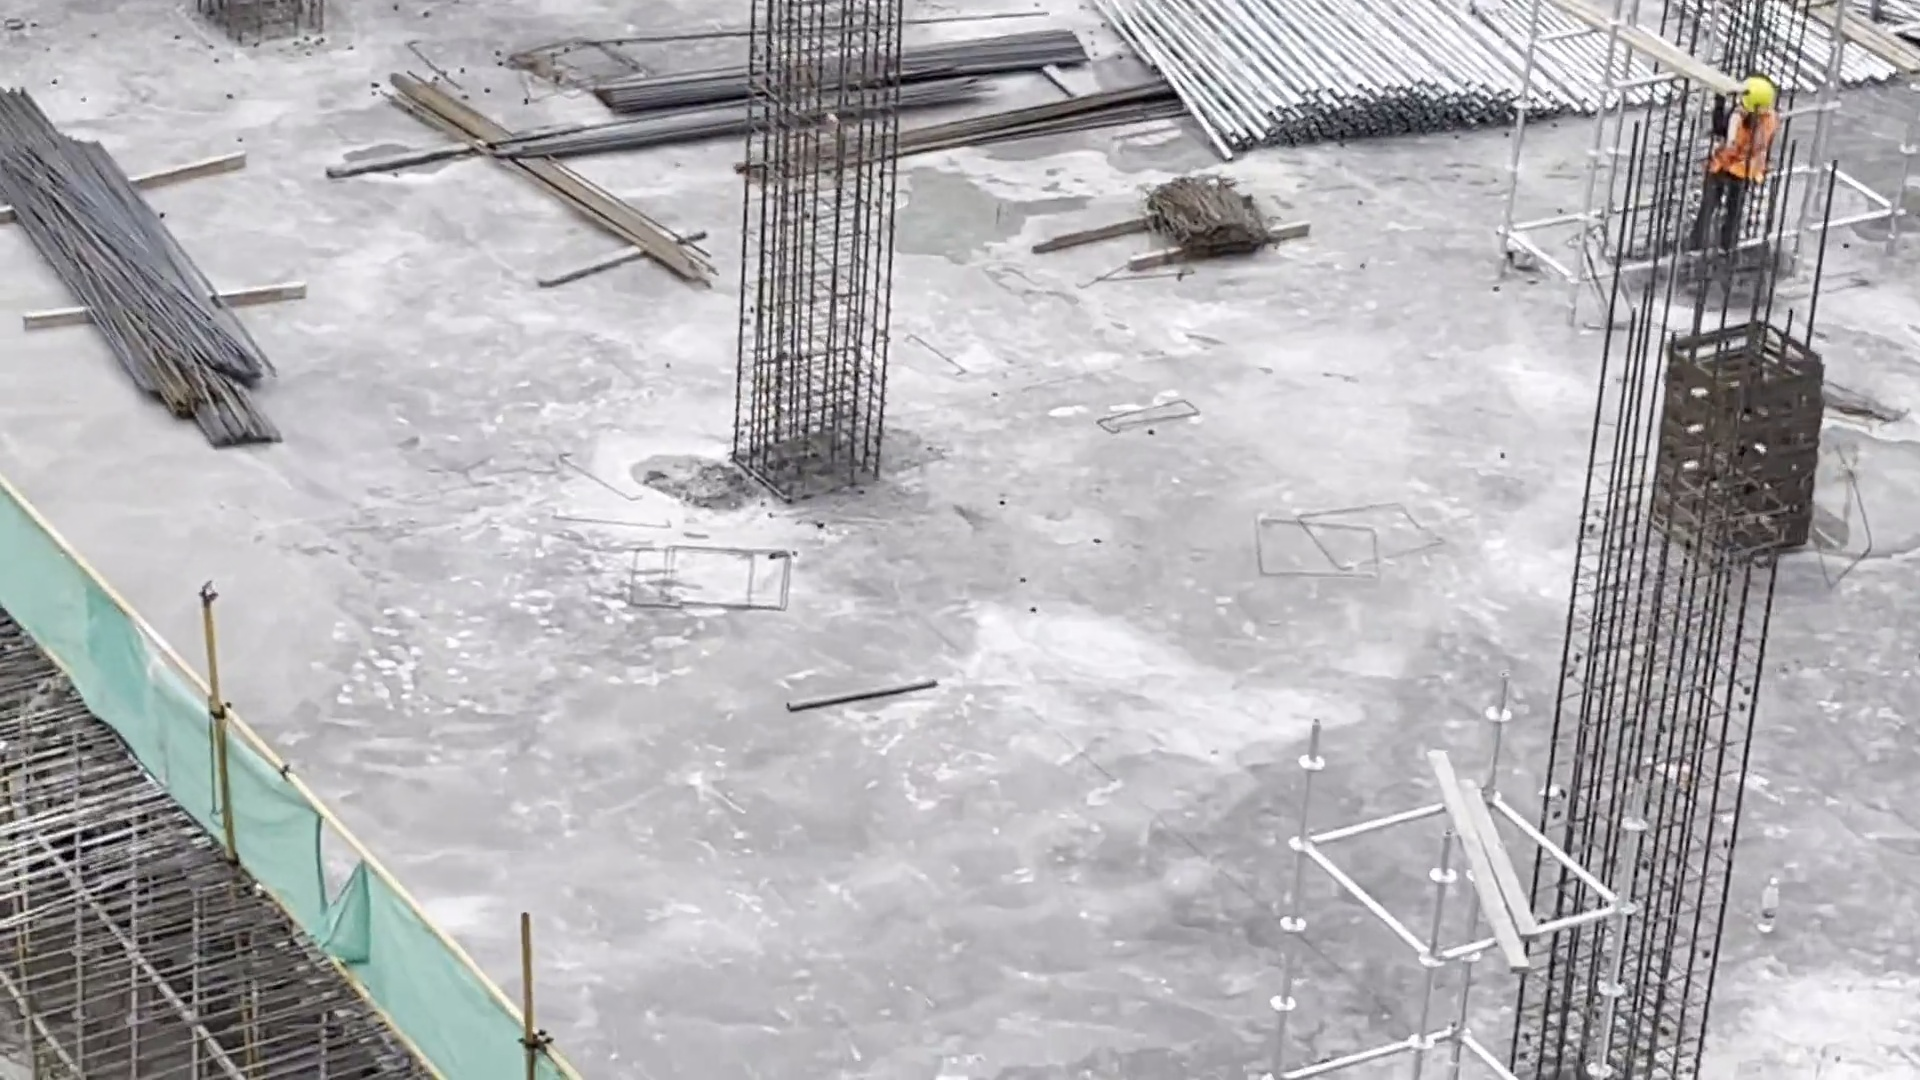helmet: (1737, 74, 1775, 116)
person: (1682, 68, 1791, 271)
rebar: (1, 84, 294, 452), (740, 83, 1182, 191), (599, 28, 1082, 120), (504, 83, 974, 161)
scaffold: (1125, 1, 1635, 171)
vest: (1712, 112, 1782, 185)
